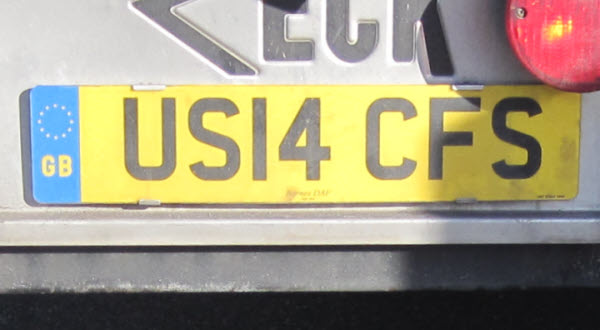license_plate: (29, 83, 583, 202)
